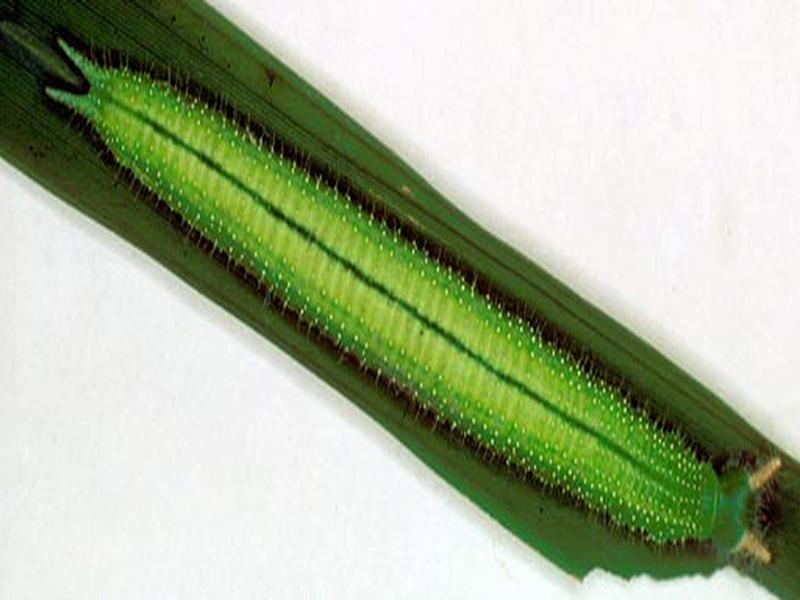Rice_horned_caterpillar: (35, 46, 787, 586)
